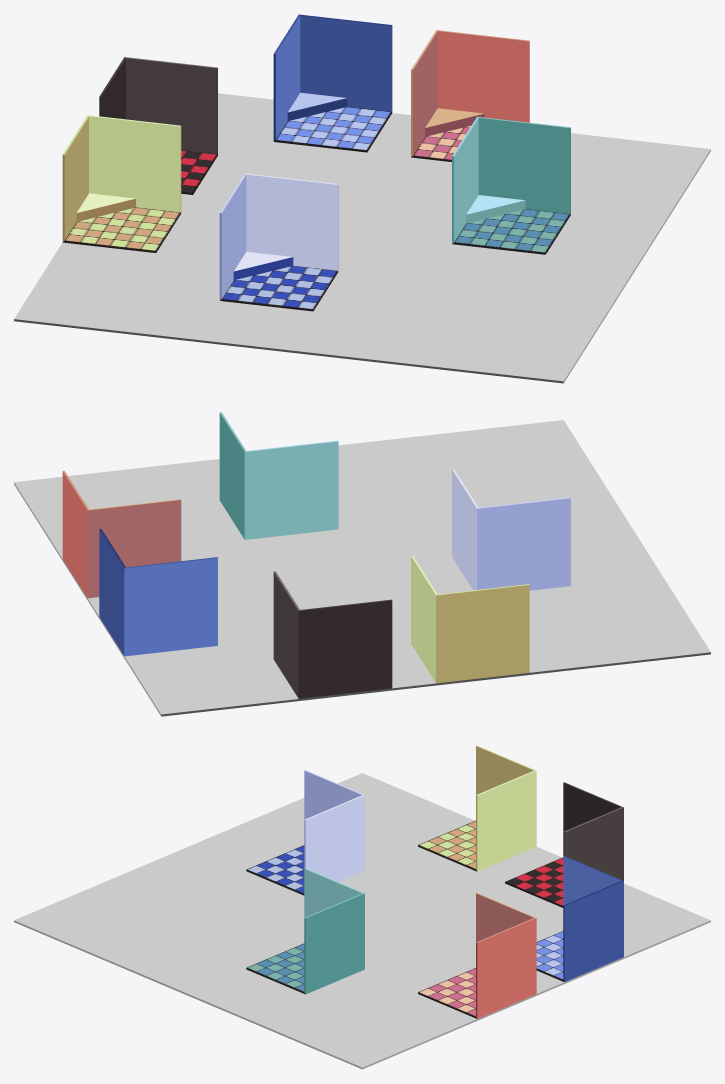
Rendered from procon2023stage.glb.
The picture shows the model from 3 angles, top to bottom: view 1: azimuth 30°, elevation 25°; view 2: azimuth 150°, elevation 25°; view 3: azimuth 270°, elevation 25°; orthographic projection. The views are drawn at different scales.
Parts seen in each view (by area): view 1: Floor.001, Room.003, Room.006, Room.005, Room.001, Room.002, Room.004; view 2: Floor.001, Room.004, Room.001, Room.003, Room.005, Room.006, Room.002; view 3: Floor.001, Room.001, Room.005, Room.002, Room.003, Room.006, Room.004.
Boxes of the visible parts, x1,y1,x2,y2 form: Floor.001: (14,93,710,383); Room.003: (273,14,392,152); Room.006: (219,173,338,311); Room.005: (62,115,181,252); Room.001: (452,116,570,254); Room.002: (411,30,529,161); Room.004: (99,57,217,194); Floor.001: (14,420,710,716); Room.004: (273,571,392,698); Room.001: (219,412,338,539); Room.003: (99,529,217,656); Room.005: (411,555,529,683); Room.006: (452,469,570,590); Room.002: (62,470,181,598); Floor.001: (14,773,710,1069); Room.001: (246,868,364,994); Room.005: (418,745,536,871); Room.002: (418,893,536,1018); Room.003: (536,856,623,981); Room.006: (246,770,364,895); Room.004: (505,782,623,907).
Bounding box in the file's own units: 16.97 × 2.09 × 16.97.
7 materials, 7 textured.
